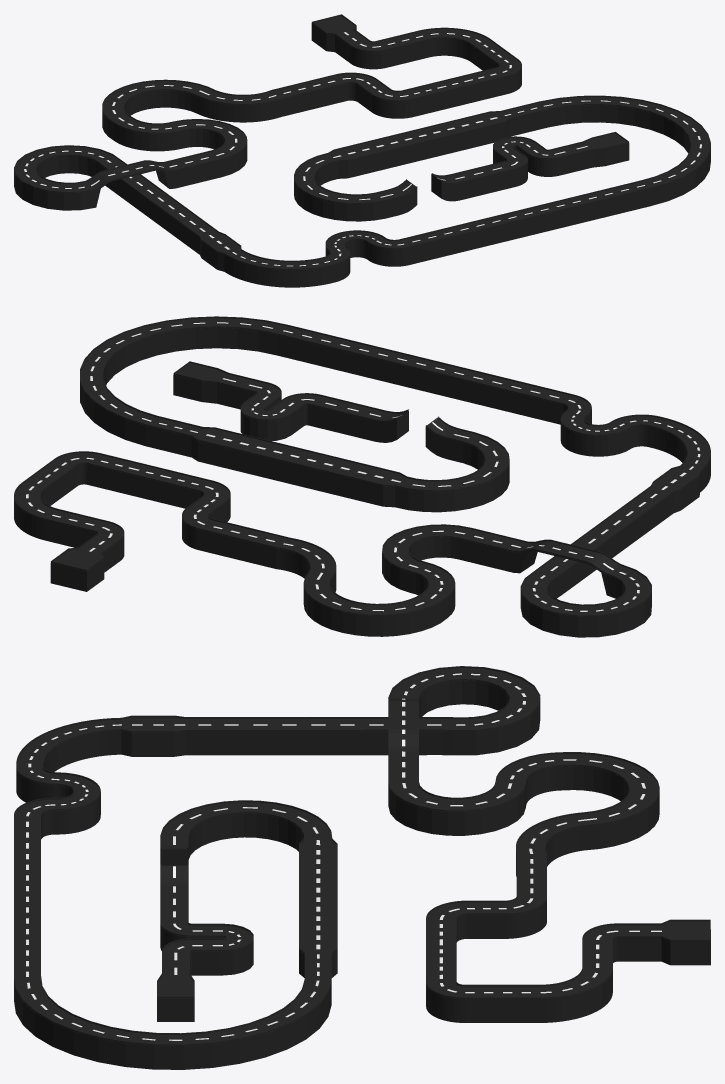
The model's file is trace3.fbx.
3 views of the same model, one above another, from view 1: azimuth 30°, elevation 25°; view 2: azimuth 150°, elevation 25°; view 3: azimuth 270°, elevation 25° (orthographic). The views are drawn at different scales.
Visible parts, largest first — view 1: Plane.000; view 2: Plane.000; view 3: Plane.000.
Boxes of the visible parts, <box> form: Plane.000: <box>14,14,710,287</box>; Plane.000: <box>14,316,710,637</box>; Plane.000: <box>14,666,710,1069</box>.
Size of the model in its own units: 1088 by 45.58 by 847.
